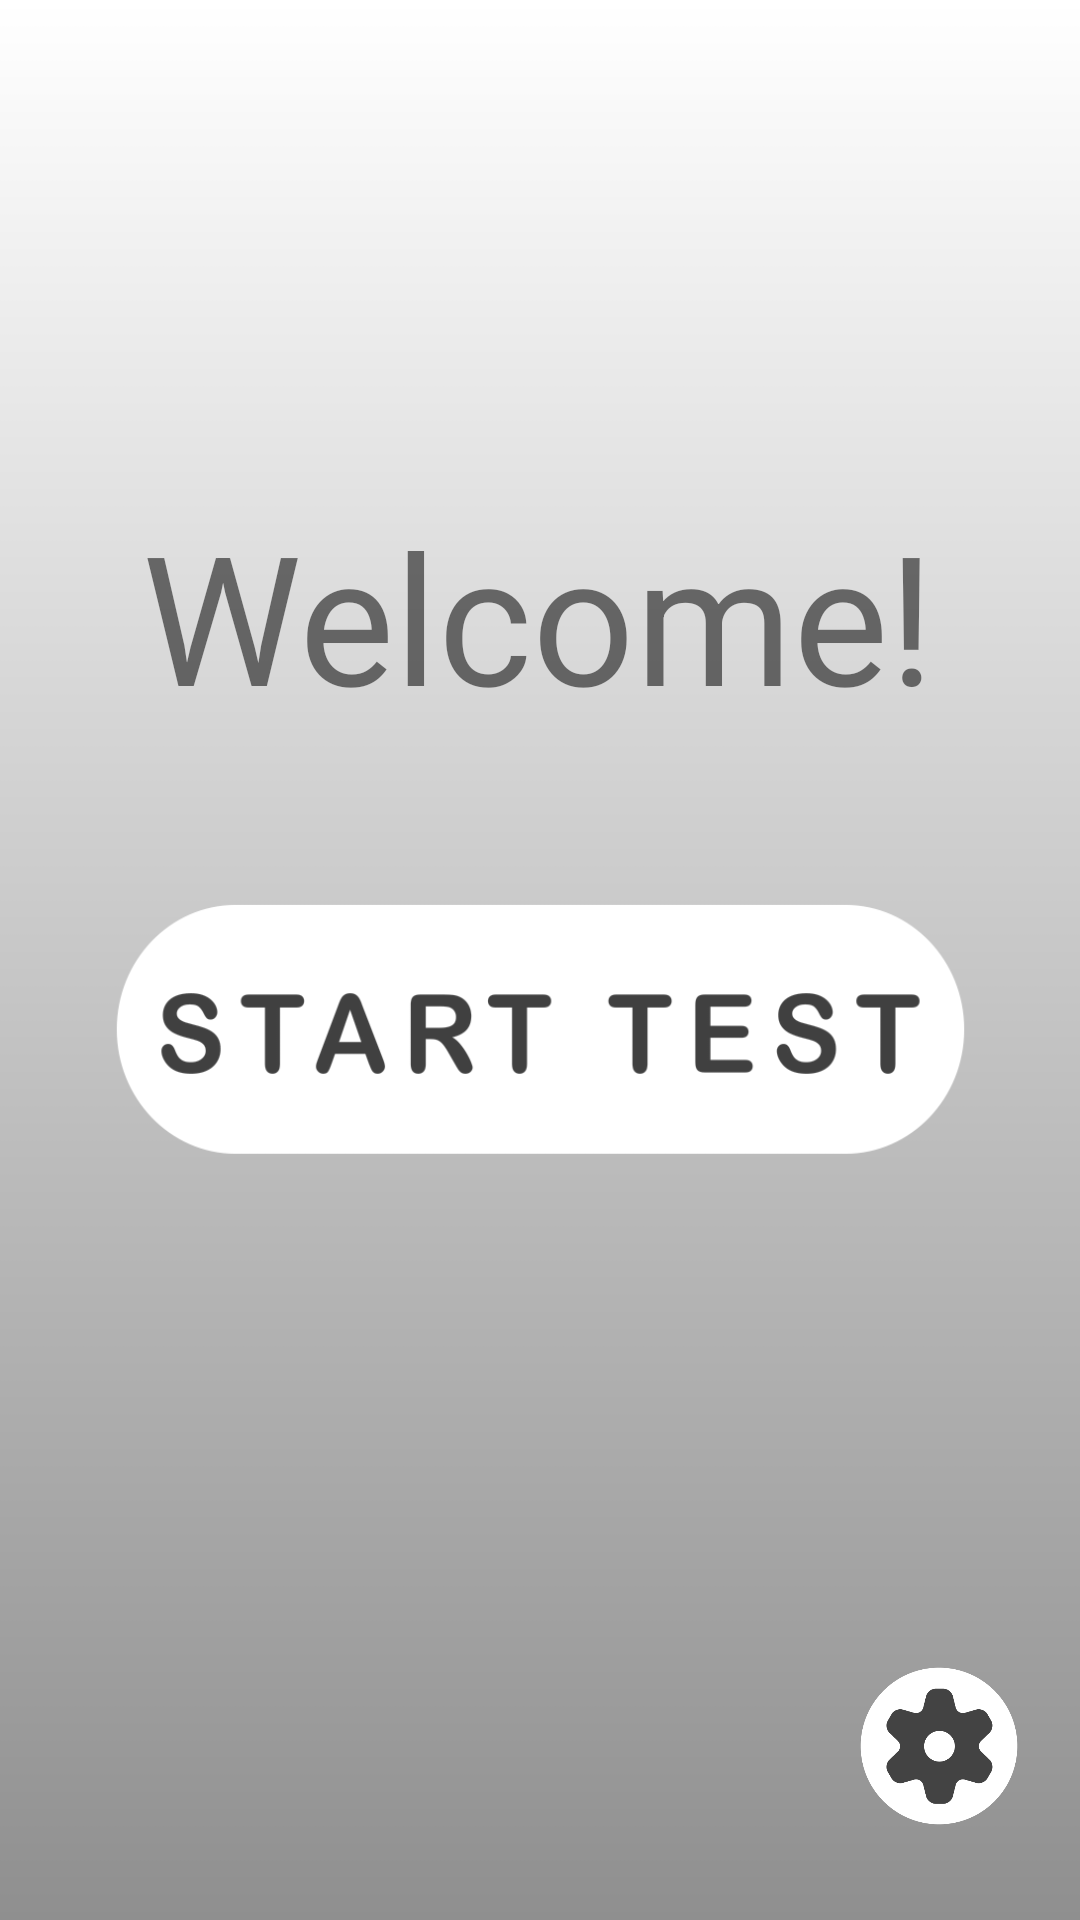

Locate icon controls on the screen. Image size 1080 × 1920, boxes as (x1, y1, x2, y2).
settings: (861, 1668, 1017, 1824)
